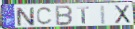B: (55, 5, 73, 26)
C: (36, 6, 54, 26)
I: (100, 5, 107, 26)
N: (15, 7, 36, 27)
T: (76, 6, 91, 25)
X: (113, 4, 131, 25)
